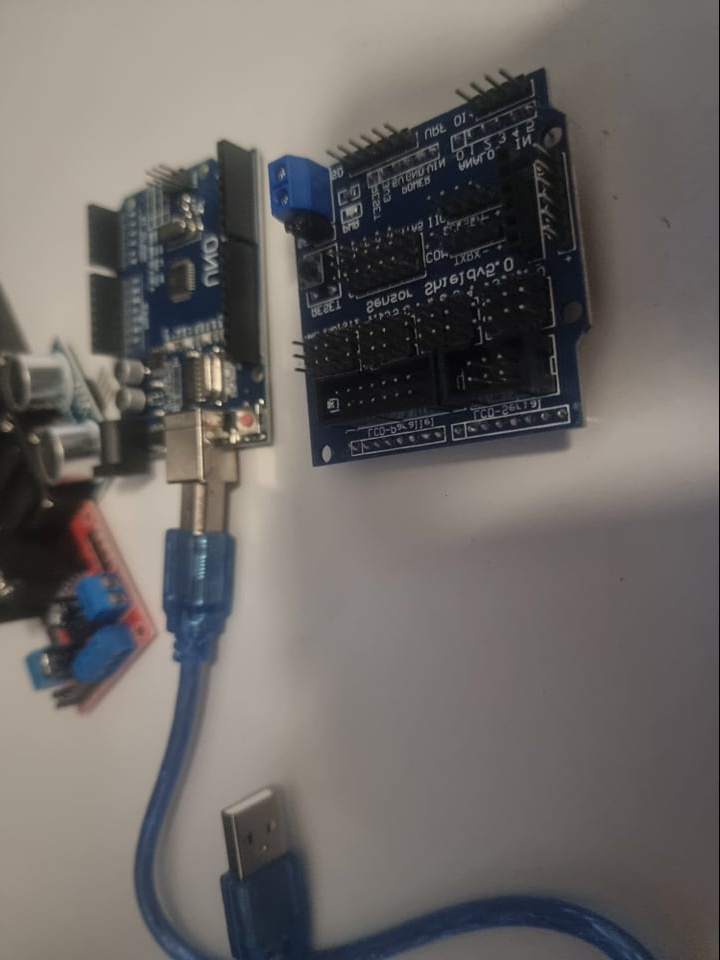5V EXPANSION: (267, 64, 587, 466)
MOTOR: (2, 502, 157, 719)
SENSOR: (6, 327, 109, 491)
UNO R3: (81, 141, 275, 481)
